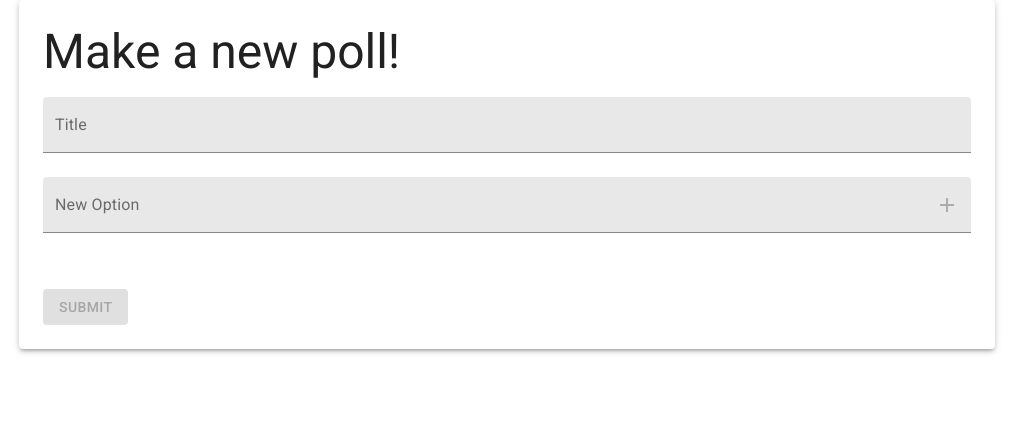
Test case: NewPoll tests › If option is present › Submit button !disabled if title && options
Step 1. Type "test" into the field labelled "Title" → (507, 125), box [43,97,971,153]
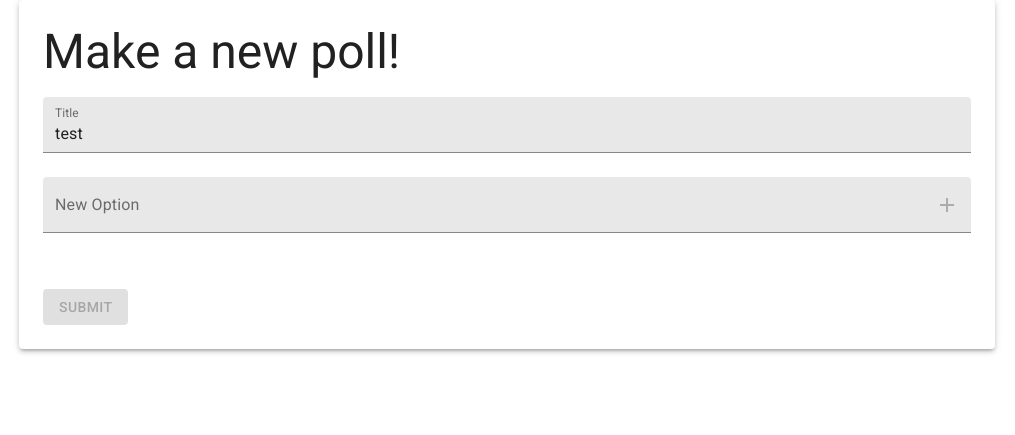
Step 2. Type "test" into the field labelled "New Option" → (479, 205), box [43,177,915,233]
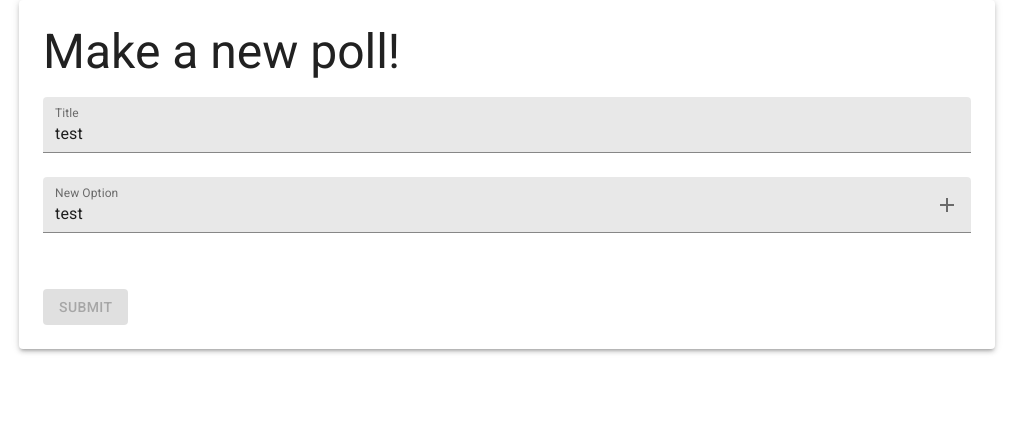
Step 3. Click the button with test id "add-option-button" → (947, 205), box [923,181,971,229]
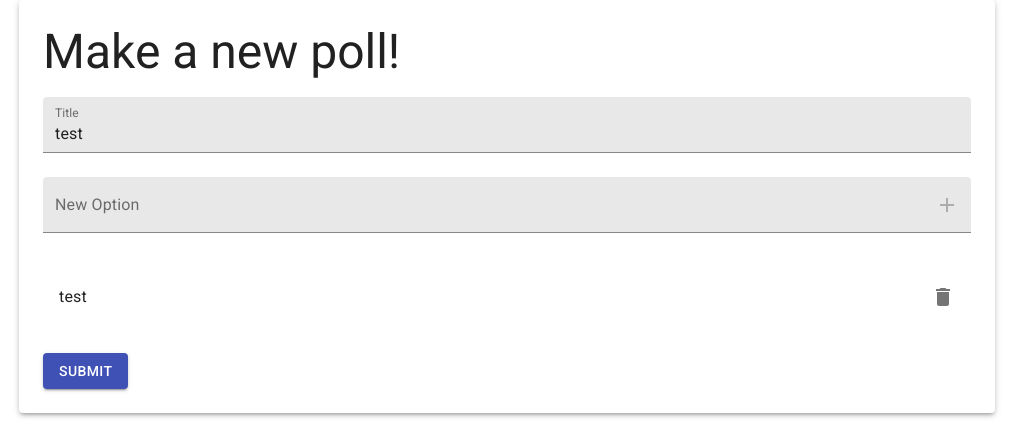
Now the button with test id "submit-button" is enabled, box [43,353,128,389]
